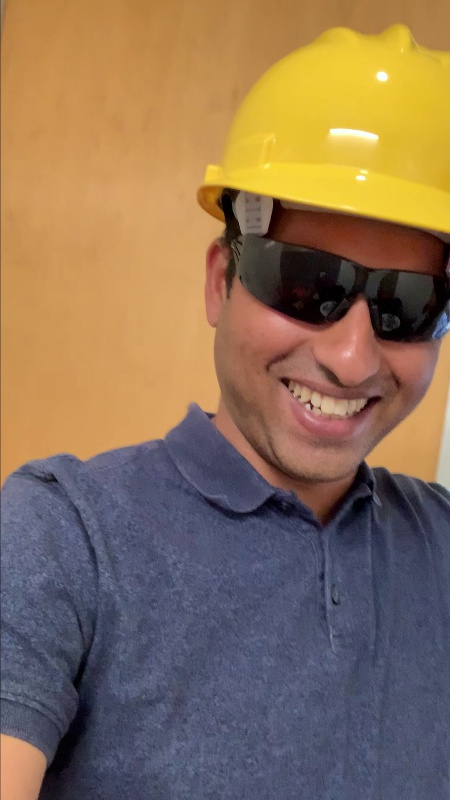glasses: (213, 221, 450, 347)
helmet: (194, 18, 450, 245)
